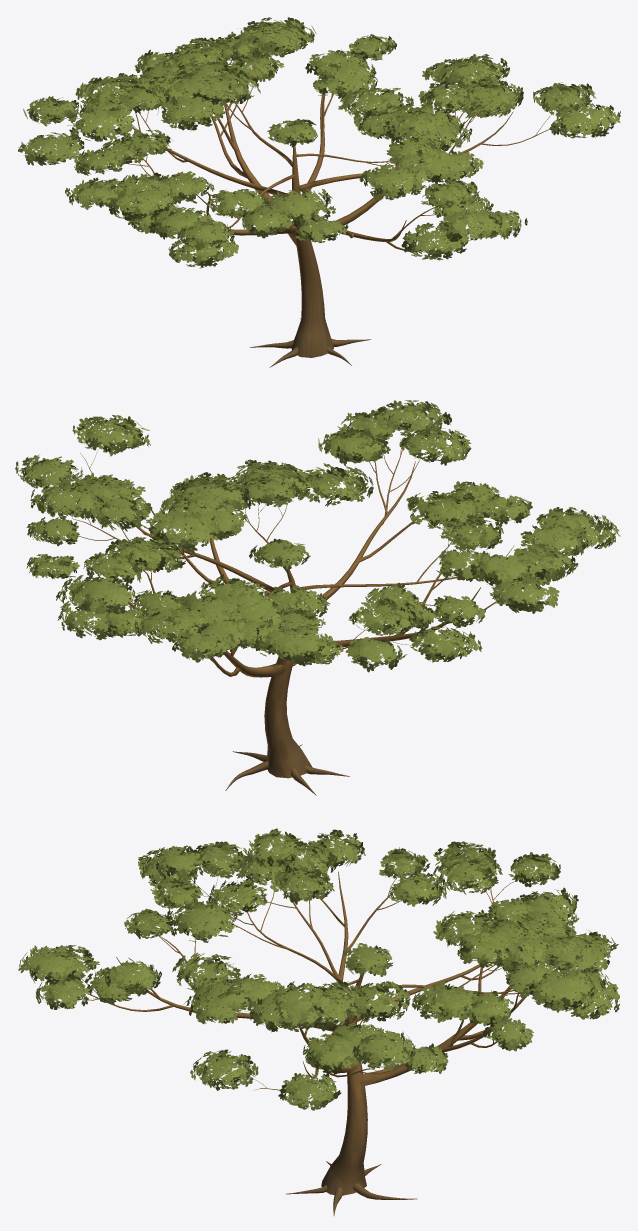
Rendered from tree.gltf.
The picture shows the model from 3 angles, top to bottom: view 1: azimuth 30°, elevation 25°; view 2: azimuth 150°, elevation 25°; view 3: azimuth 270°, elevation 25°; orthographic projection. The views are drawn at different scales.
Parts seen in each view (by area): view 1: Tree_LOD0; view 2: Tree_LOD0; view 3: Tree_LOD0.
Boxes of the visible parts, x1,y1,x2,y2 form: Tree_LOD0: (18, 17, 620, 367); Tree_LOD0: (15, 400, 620, 795); Tree_LOD0: (18, 828, 619, 1215).
Bounding box in the file's own units: 33.58 × 14.7 × 32.49.
Materials: 2 (2 with a texture image).
